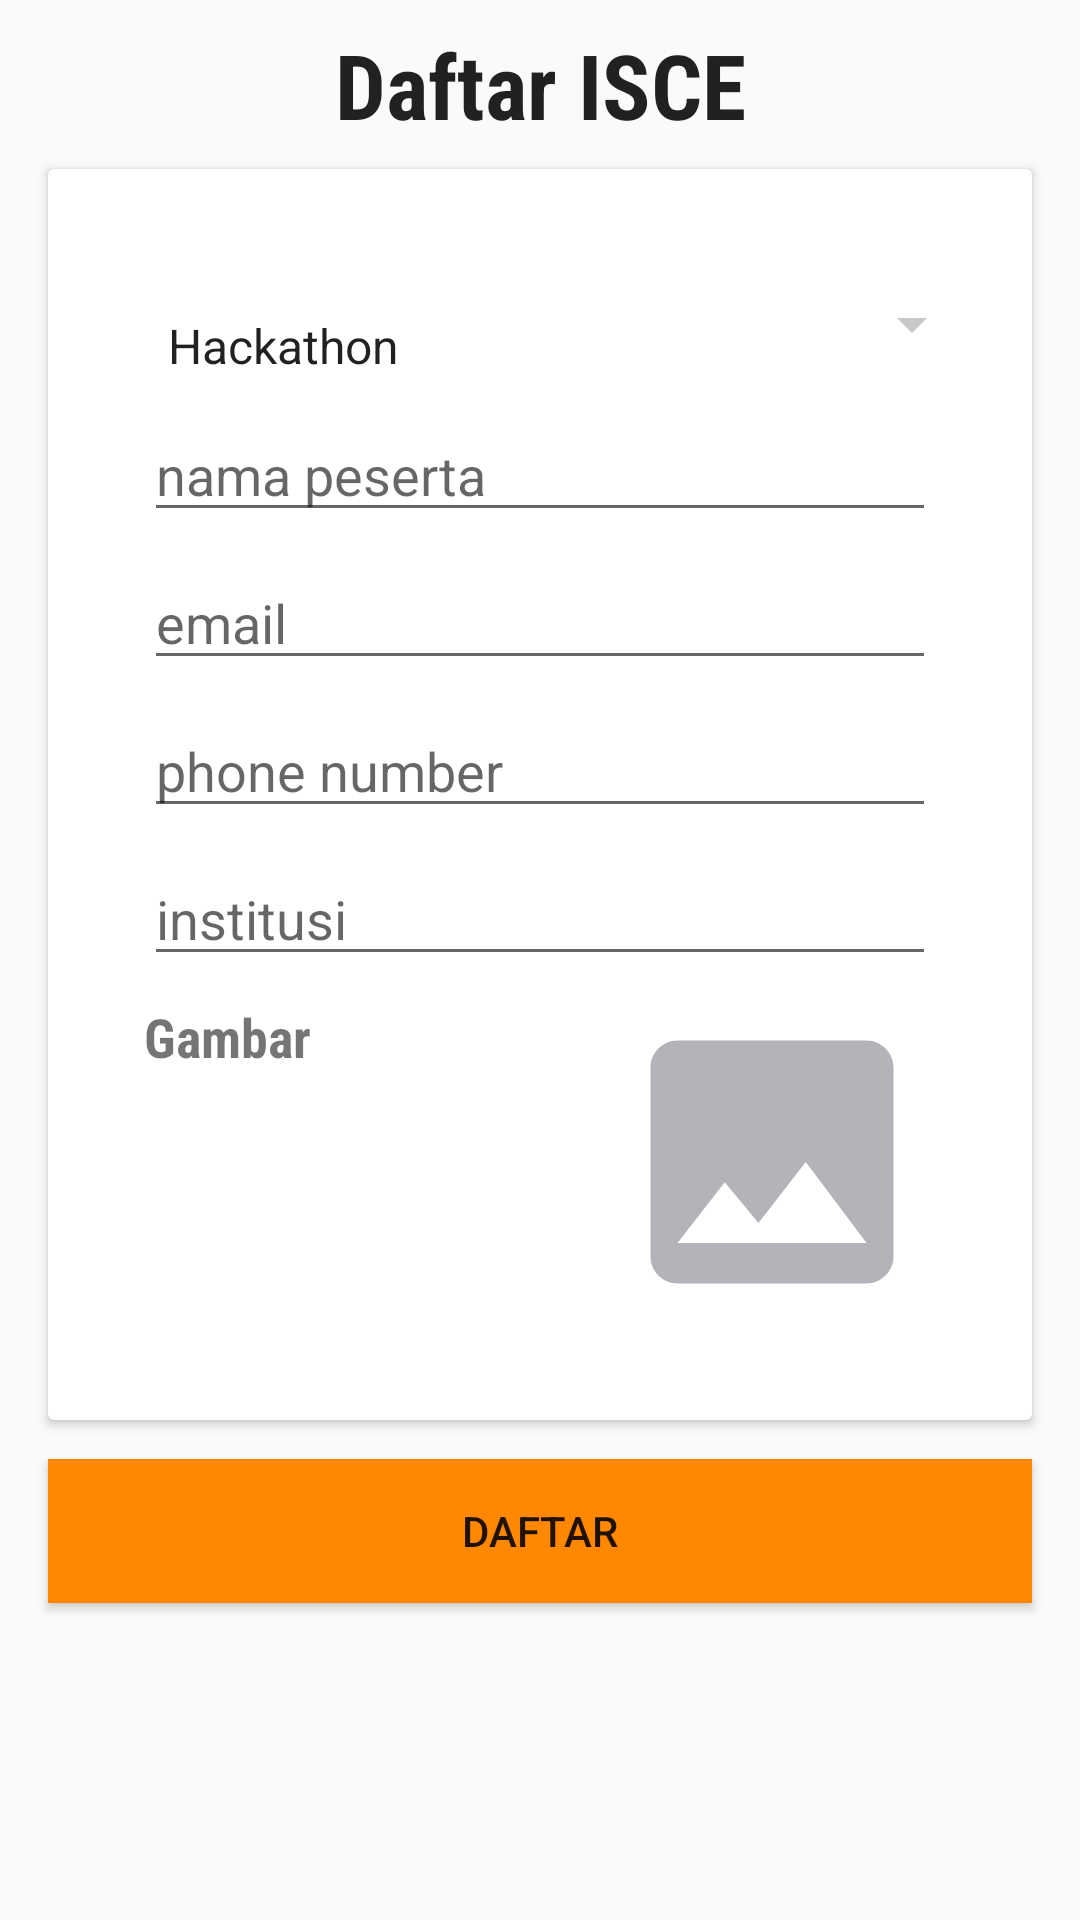

Where to tap for icons on this 1080*1920 app screen, as (x,y):
insert photo: (772,1162)
